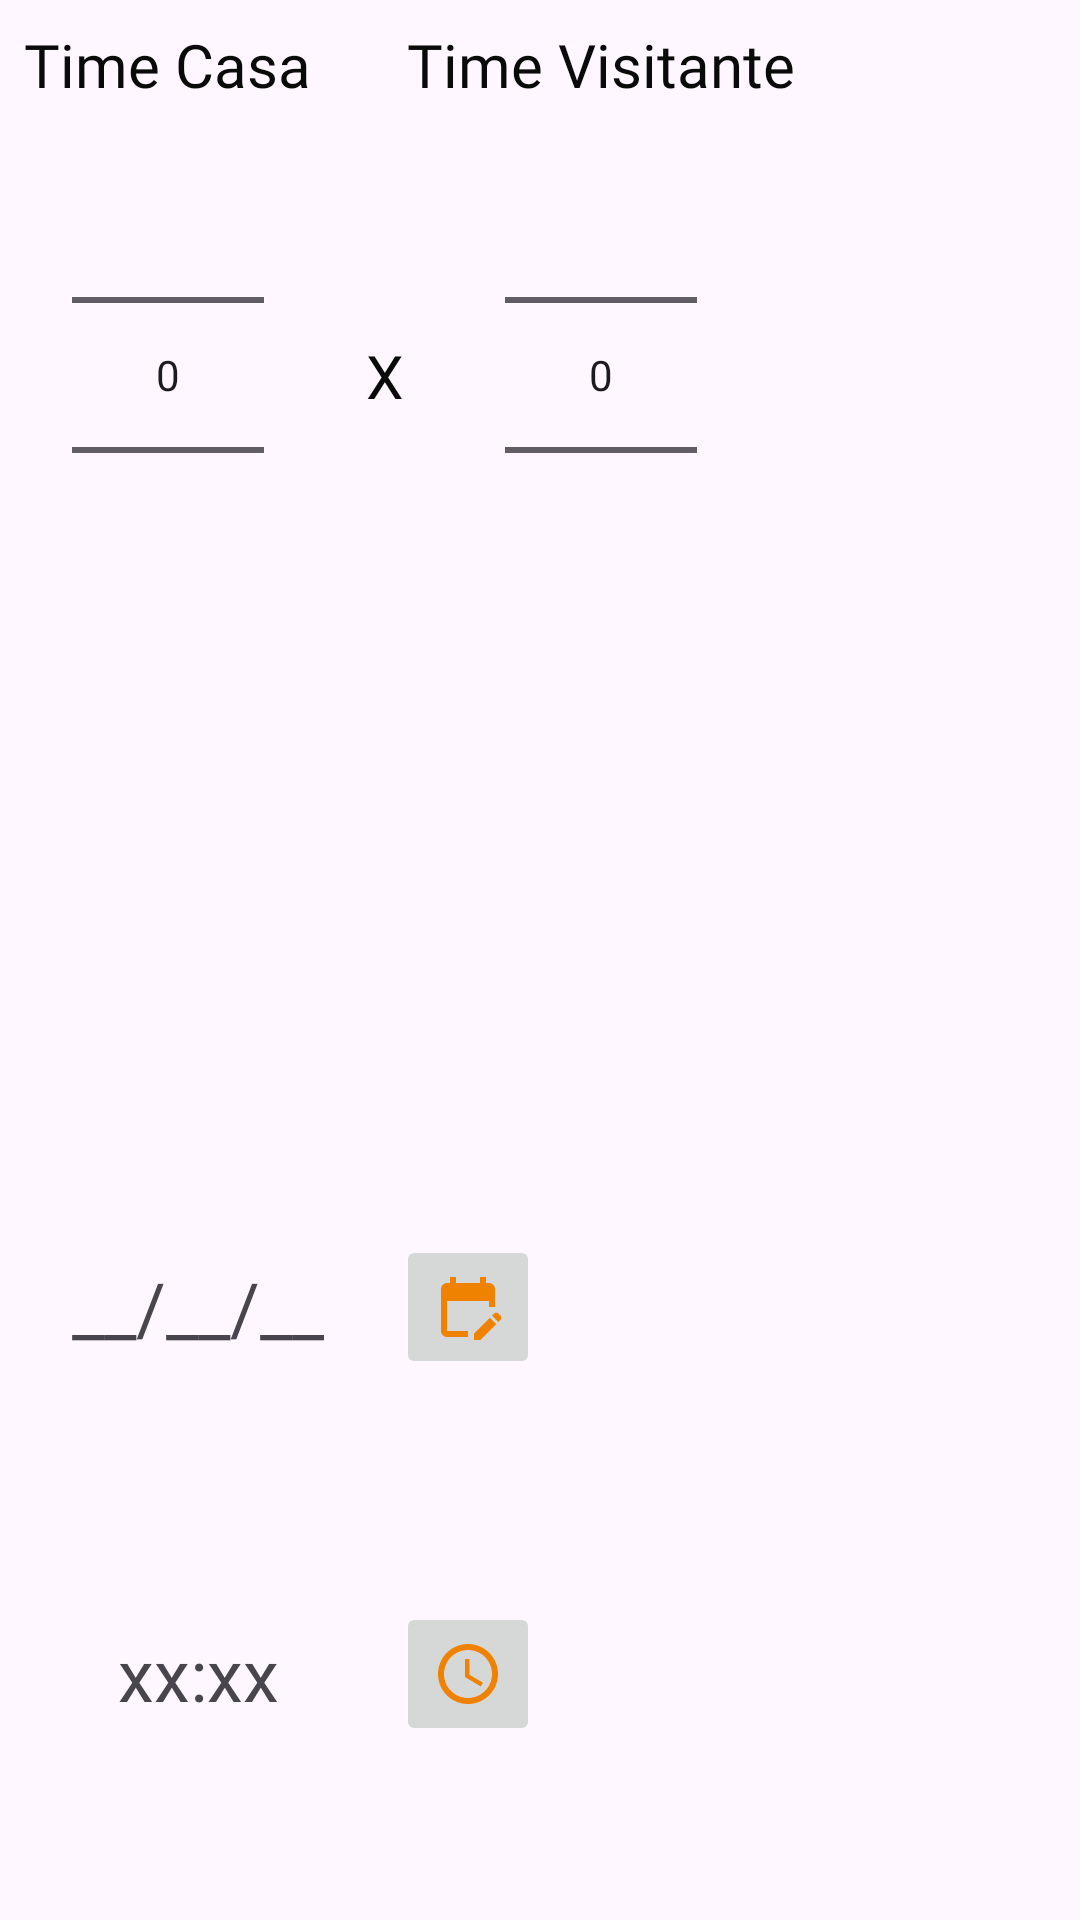

Named icons in this screenshot (1080px x 1920px) and their bounding boxes, (x1, y1, x2, y2):
access time: (408, 1620, 528, 1728)
edit calendar: (408, 1253, 528, 1361)
